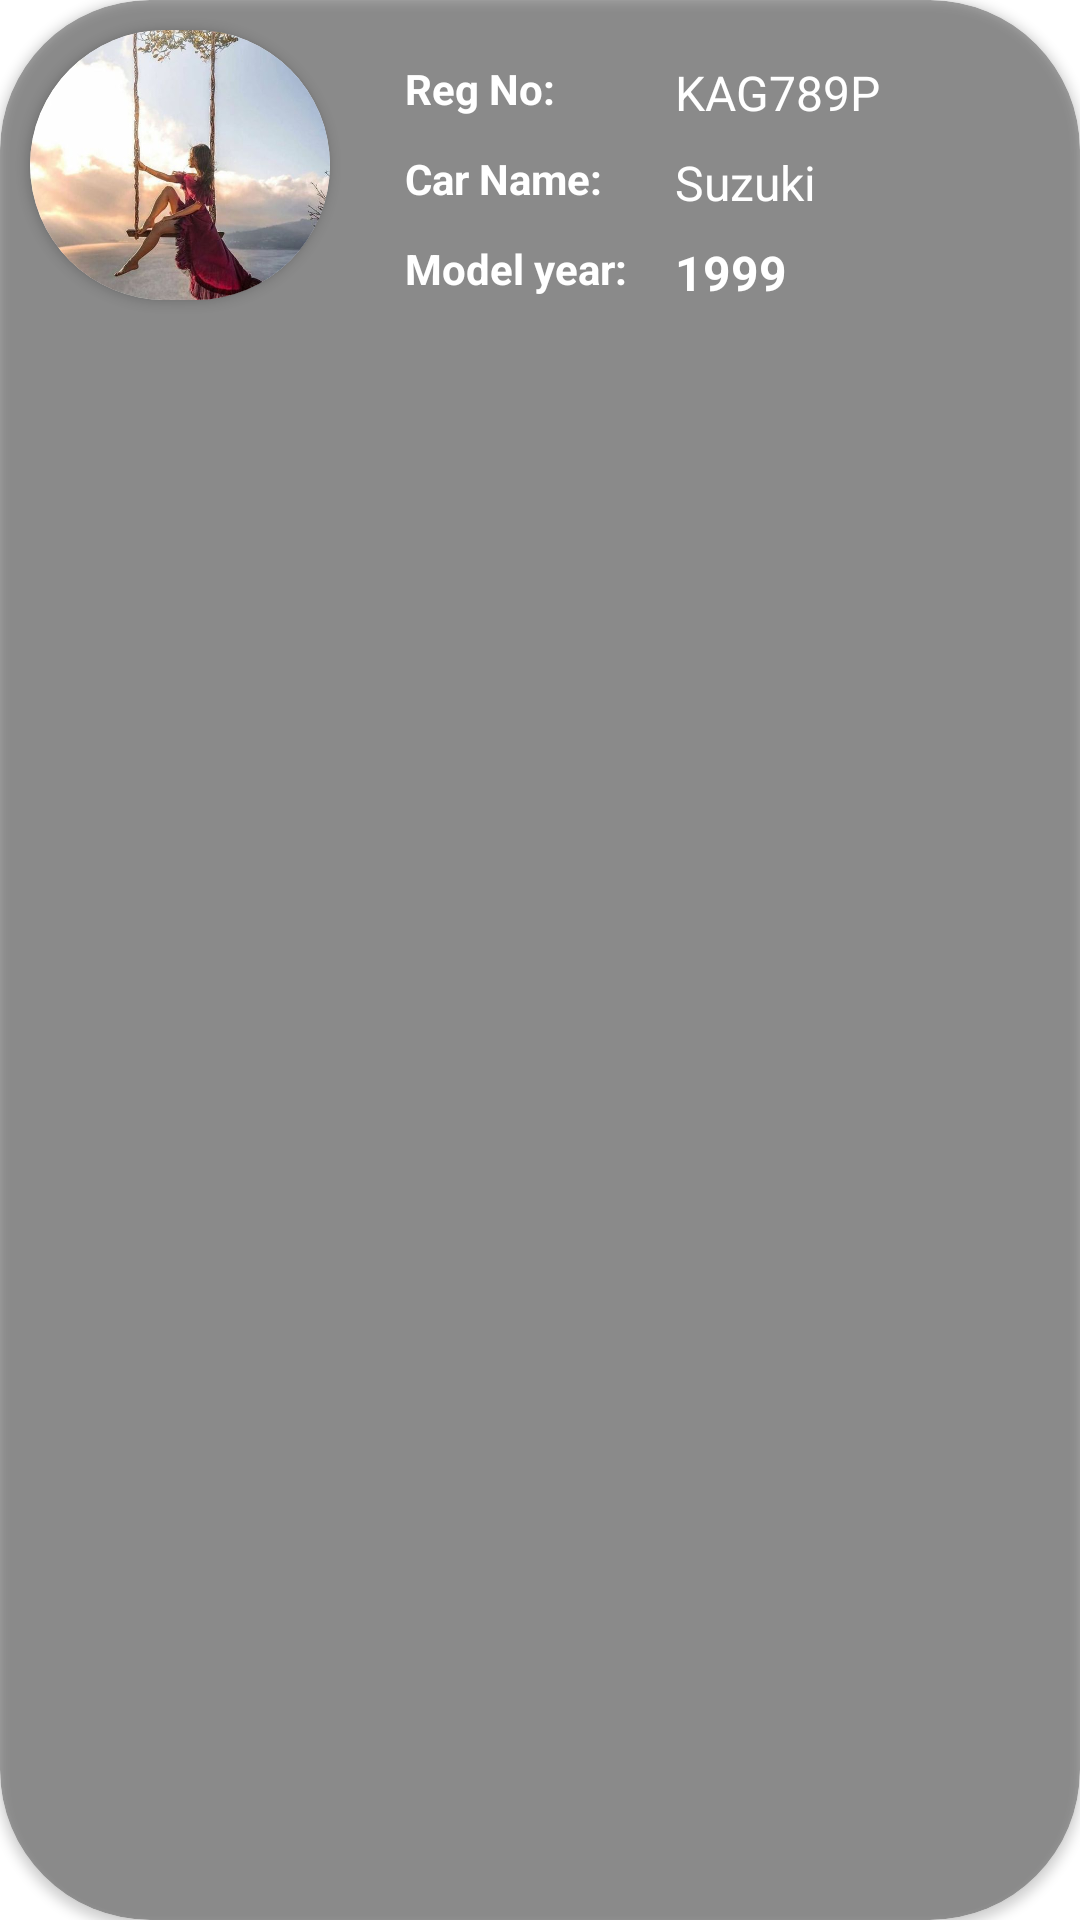

Icons on this 1080×1920 Android screen, each with its box as (x1, y1, x2, y2):
traveler: (30, 30, 330, 300)
